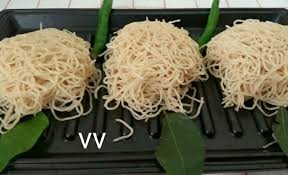idyappa: (2, 23, 288, 116)
